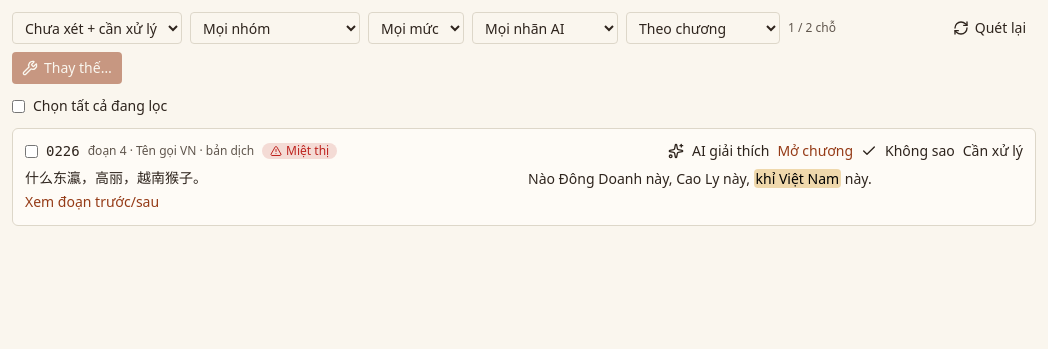
Test case: VnCheckPanel › quét khi mở, mặc định ẩn chỗ đã 'Không sao', tô chữ khớp, hiện mức miệt thị
Expected: the text "khỉ Việt Nam" is shown, [754,169,841,188]
Expected: the text "Miệt thị" is shown, [262,143,337,159]
Select "Tất cả" in the dropdown named "Trạng thái": coordinates (97, 28) [12,12,182,44]
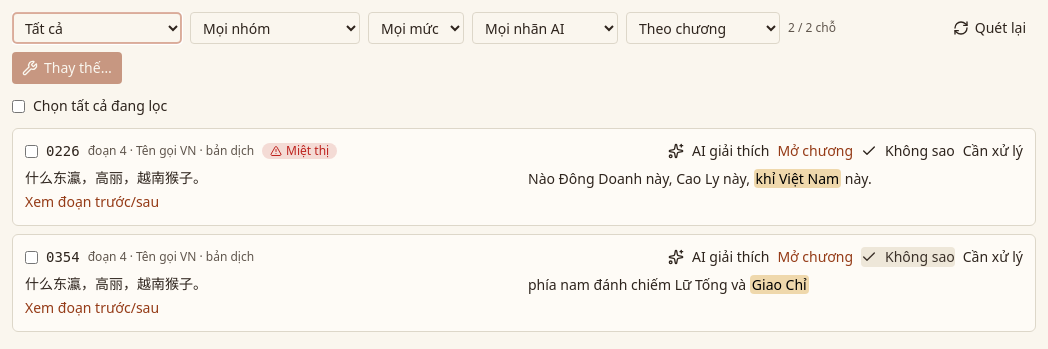
Expected: the text "0354" is shown, [46,247,80,267]
